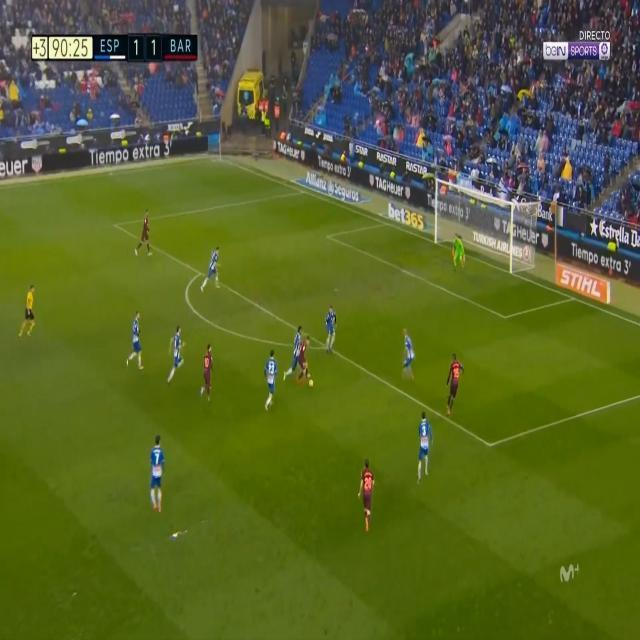ball: (308, 378, 314, 388)
goalkeeper: (450, 225, 469, 274)
player: (148, 432, 169, 512), (357, 457, 380, 530), (414, 411, 435, 482), (289, 325, 311, 388), (443, 350, 463, 418), (262, 345, 282, 410), (128, 311, 147, 372), (168, 323, 186, 383), (323, 303, 341, 359), (198, 344, 215, 402), (204, 244, 223, 295), (401, 327, 419, 380), (138, 210, 154, 257)
referee: (20, 282, 40, 344)
